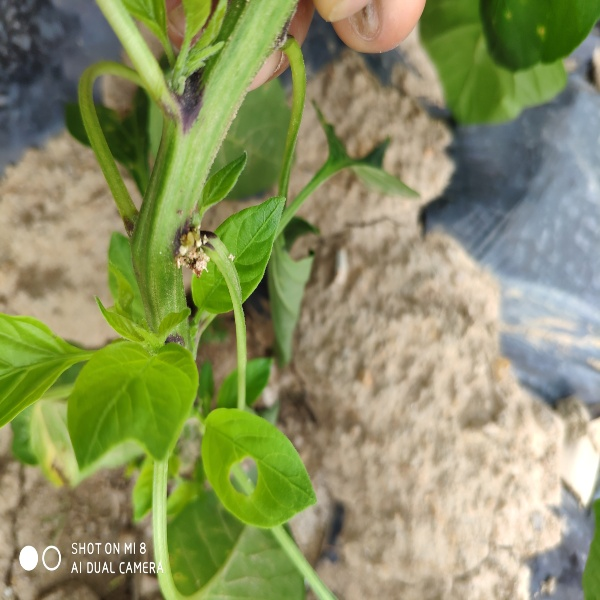blight: (174, 221, 221, 275), (171, 70, 205, 136), (275, 8, 305, 52), (120, 211, 144, 239), (162, 329, 188, 353)
